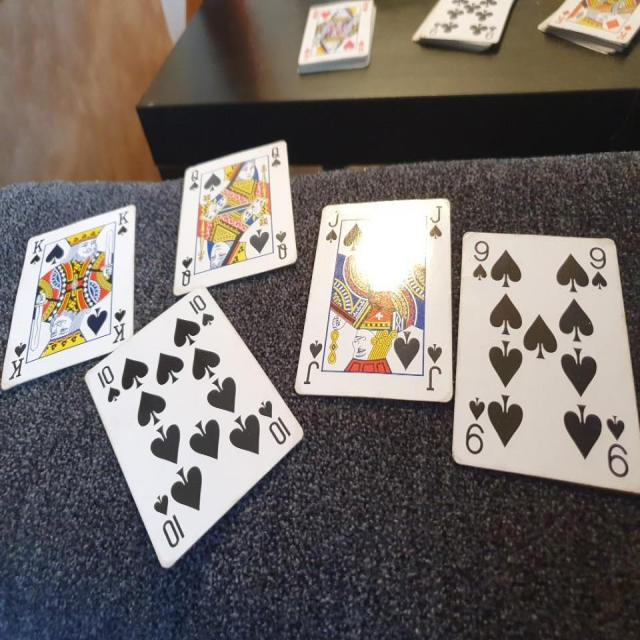10 Spades: (78, 277, 310, 574)
9 Spades: (445, 224, 640, 495)
J Spades: (294, 188, 456, 417)
K Spades: (11, 204, 138, 398)
Q Spades: (167, 138, 300, 300)
